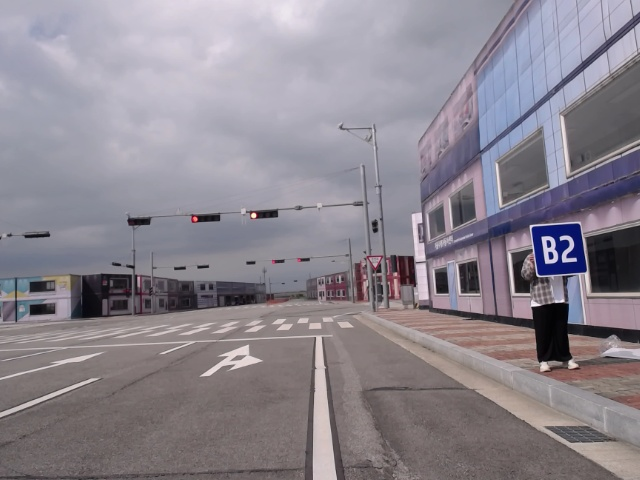delivery_b2: (528, 221, 592, 278)
red_4: (247, 209, 284, 220), (190, 213, 222, 222), (270, 258, 288, 265), (295, 256, 312, 263)
